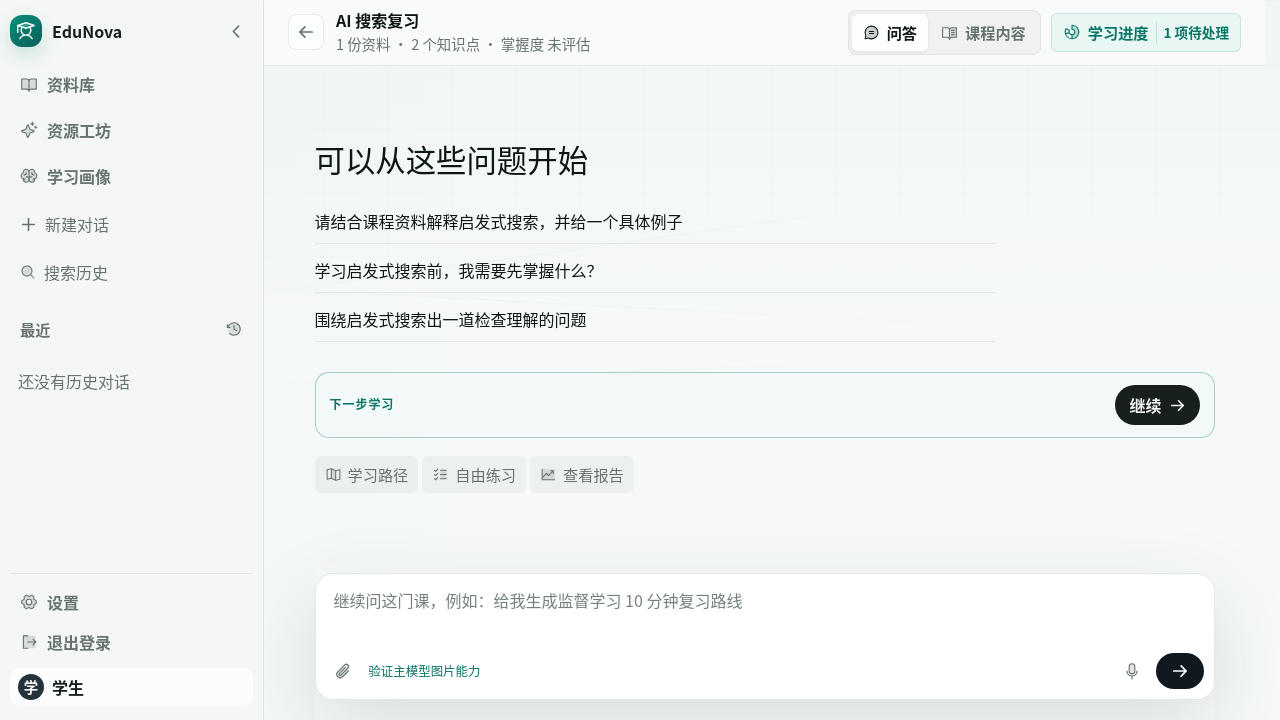
CourseSpacePage course tutor sessions › shows the learning loop in course space without replacing course chat
The width and height of the screenshot is (1280, 720).
Expected: the header named "课程工作区标题栏" is shown, [264, 0, 1265, 66]
Click the button "学习进度 1 项待处理".
click(1146, 32)  # box [1051, 13, 1241, 52]
(page scrolled)
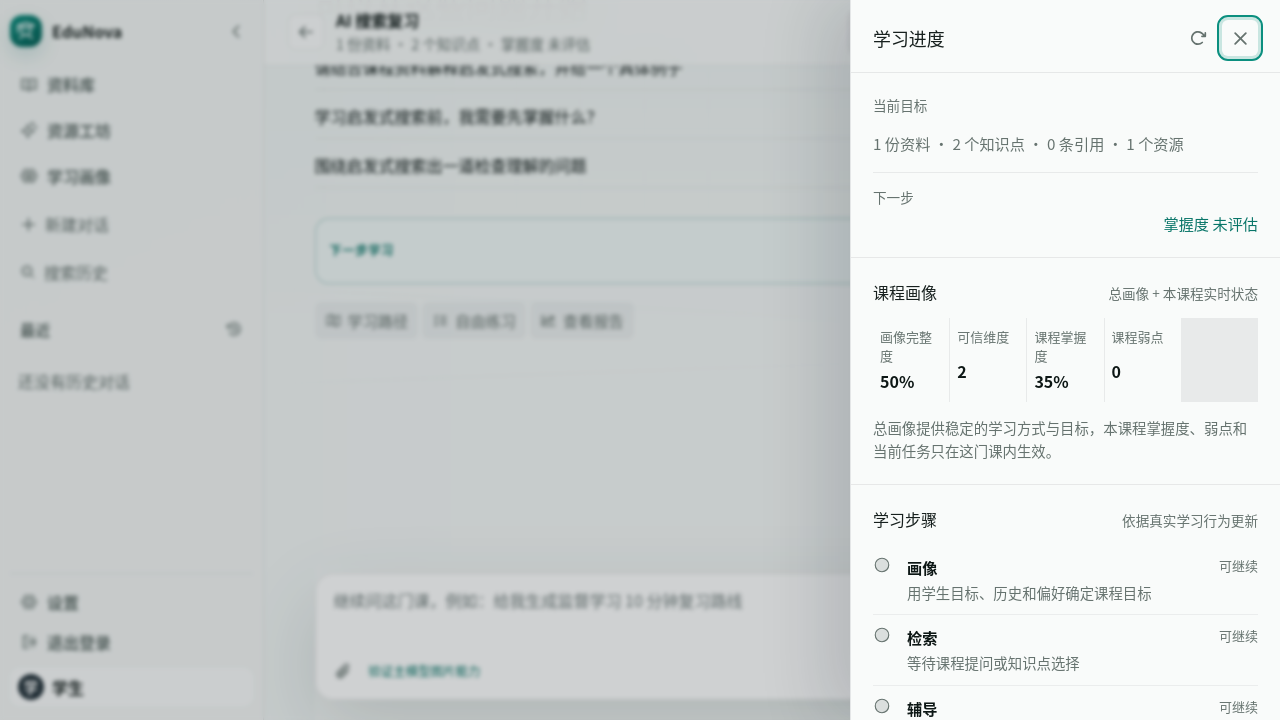
Result: the dialog "学习进度" is shown
Result: the dialog "学习进度" shows "课程画像" at [873, 280, 937, 304]
Result: the dialog "学习进度" shows "总画像 + 本课程实时状态" at [1108, 283, 1258, 303]
